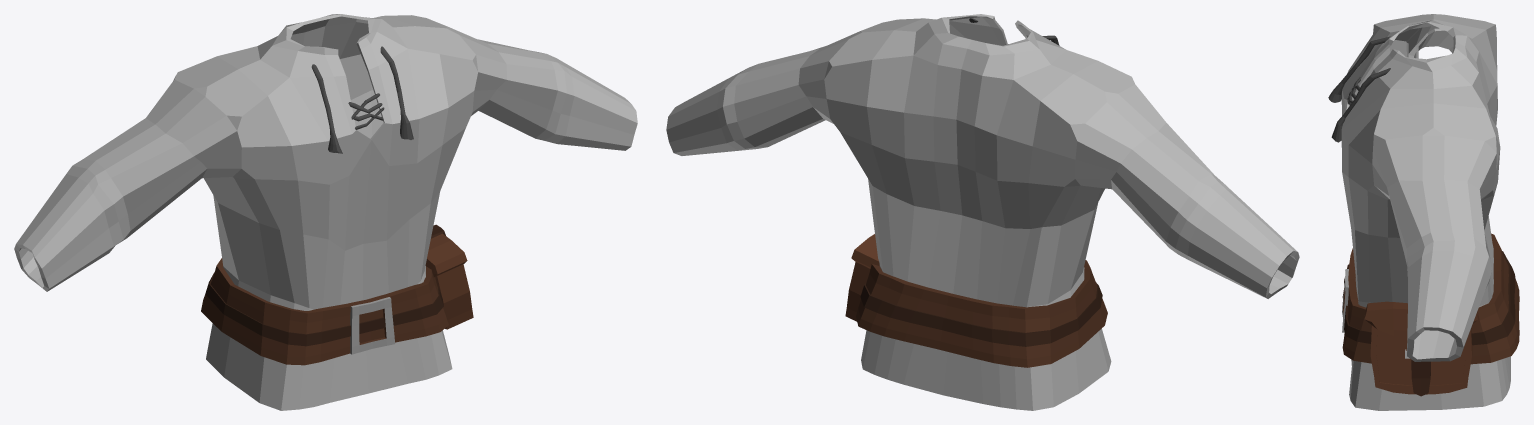
Rendered from Chest_Base_Armor.fbx.
3 views of the same model, side by side, from view 1: azimuth 30°, elevation 25°; view 2: azimuth 150°, elevation 25°; view 3: azimuth 270°, elevation 25° (orthographic). The views are drawn at different scales.
Parts seen in each view (by area): view 1: Cube.001; view 2: Cube.001; view 3: Cube.001.
Part boxes in pixels (x1=…): Cube.001: x1=14, y1=14, x2=637, y2=410; Cube.001: x1=666, y1=14, x2=1299, y2=410; Cube.001: x1=1328, y1=14, x2=1519, y2=410.
Size of the model in its own units: 268 by 143 by 75.46.
